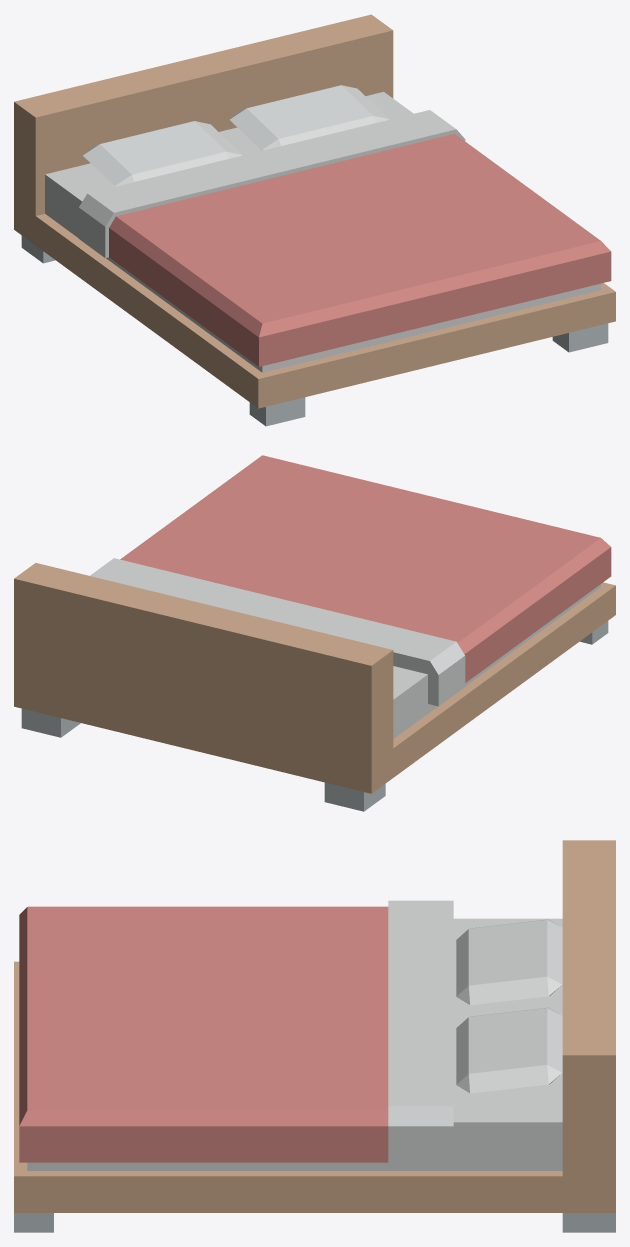
The model's file is bedDouble.glb.
The picture shows the model from 3 angles, top to bottom: view 1: azimuth 30°, elevation 25°; view 2: azimuth 150°, elevation 25°; view 3: azimuth 270°, elevation 25°; orthographic projection. The views are drawn at different scales.
Parts seen in each view (by area): view 1: bedDouble(Clone), cover; view 2: bedDouble(Clone), cover; view 3: cover, bedDouble(Clone).
Boxes of the visible parts, left/top/right/bottom form: bedDouble(Clone): left=14, top=14, right=615, bottom=426; cover: left=109, top=133, right=611, bottom=366; bedDouble(Clone): left=14, top=558, right=615, bottom=811; cover: left=120, top=455, right=611, bottom=682; cover: left=19, top=906, right=388, bottom=1162; bedDouble(Clone): left=14, top=840, right=615, bottom=1232.
Size of the model in its own units: 0.9561 by 0.375 by 1.12.
